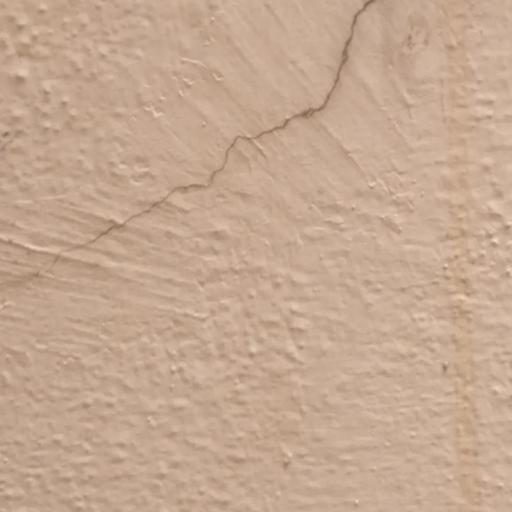minor_crack: (3, 0, 396, 289)
